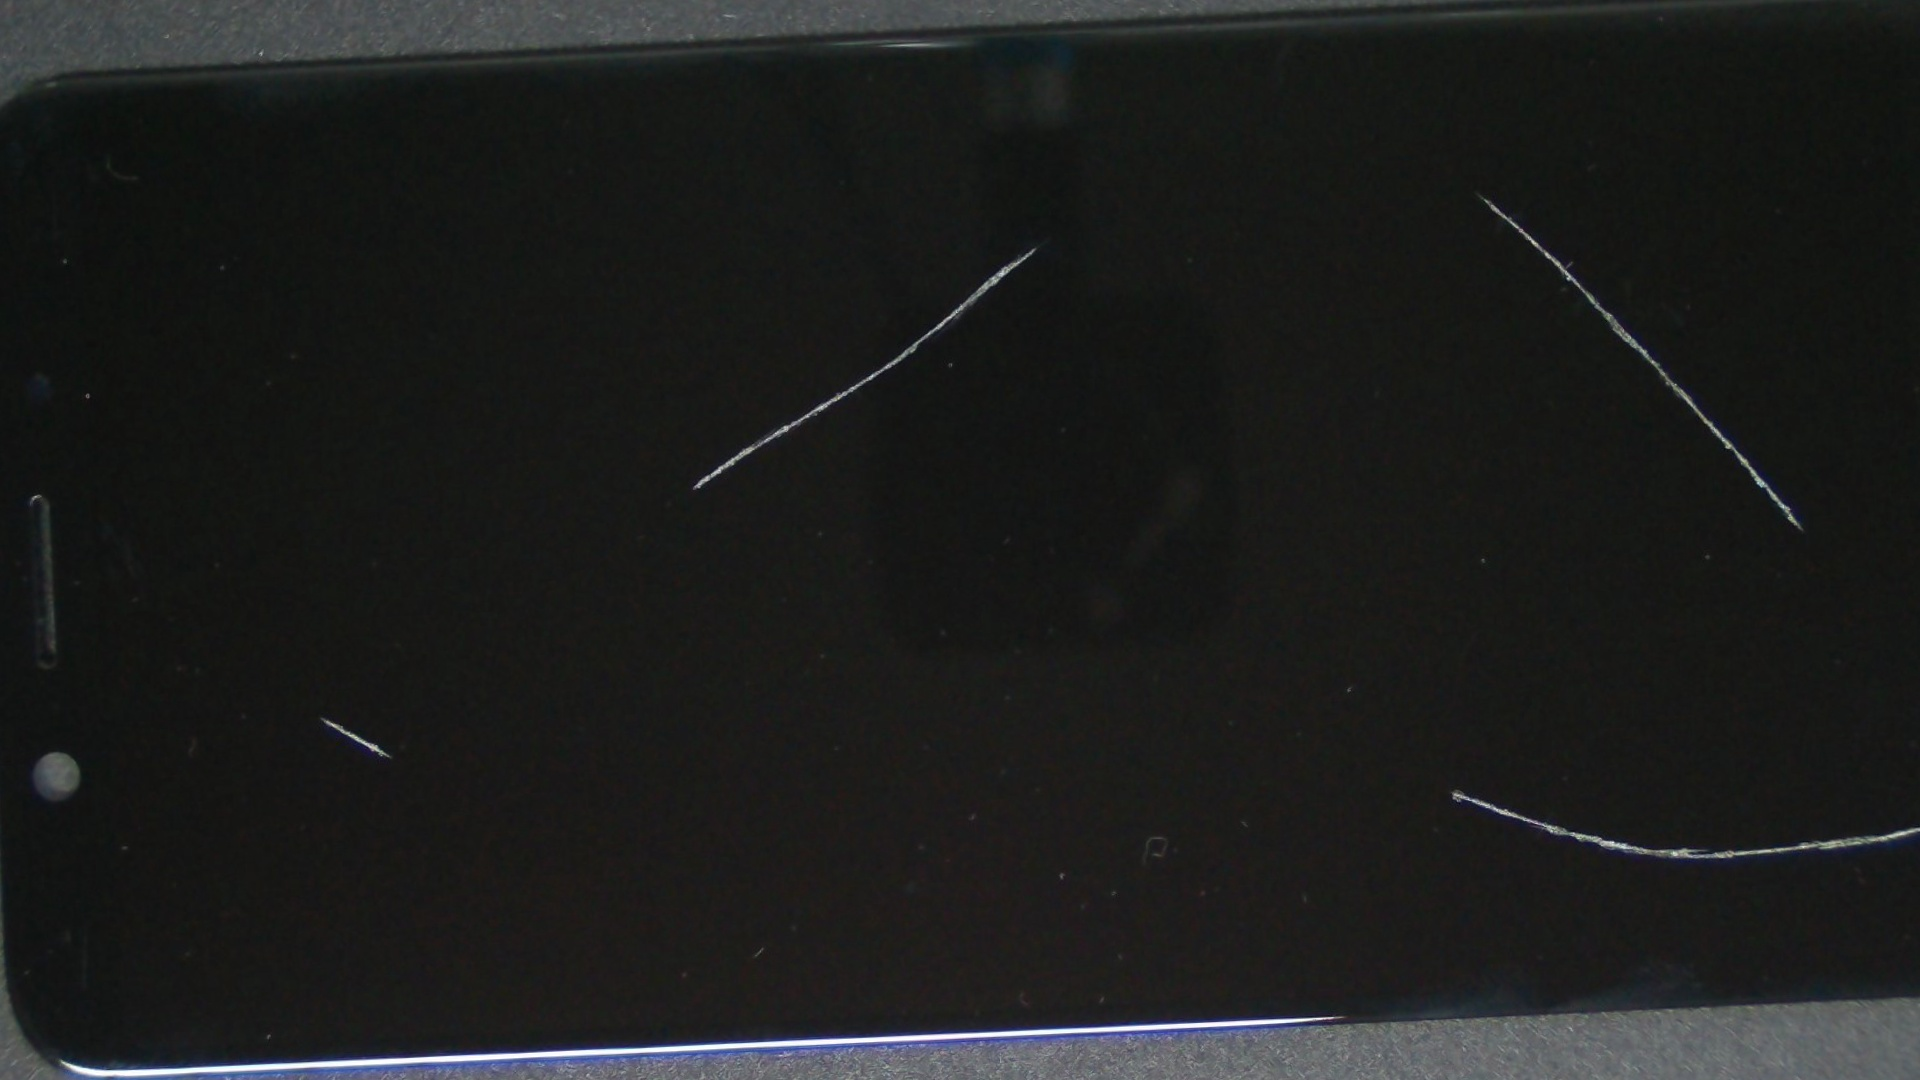oil: (691, 303, 1920, 1080), (703, 9, 1920, 394), (481, 46, 1586, 447), (123, 319, 516, 1080)
